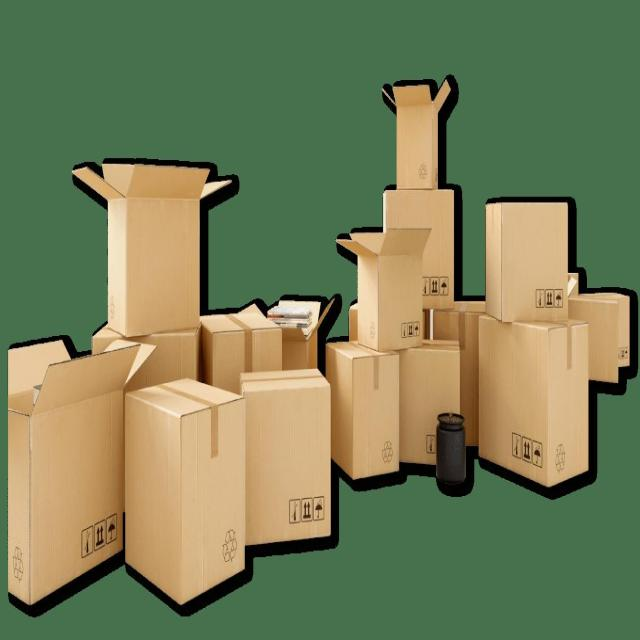box: (8, 343, 124, 600), (78, 136, 218, 344), (124, 383, 246, 613), (476, 315, 595, 489), (110, 355, 199, 528), (240, 371, 330, 542), (336, 216, 429, 350), (323, 340, 405, 487), (480, 189, 568, 320), (392, 329, 464, 473), (381, 182, 456, 314), (458, 298, 506, 452), (385, 82, 445, 196), (202, 303, 275, 390), (569, 288, 627, 388), (268, 298, 319, 387)
